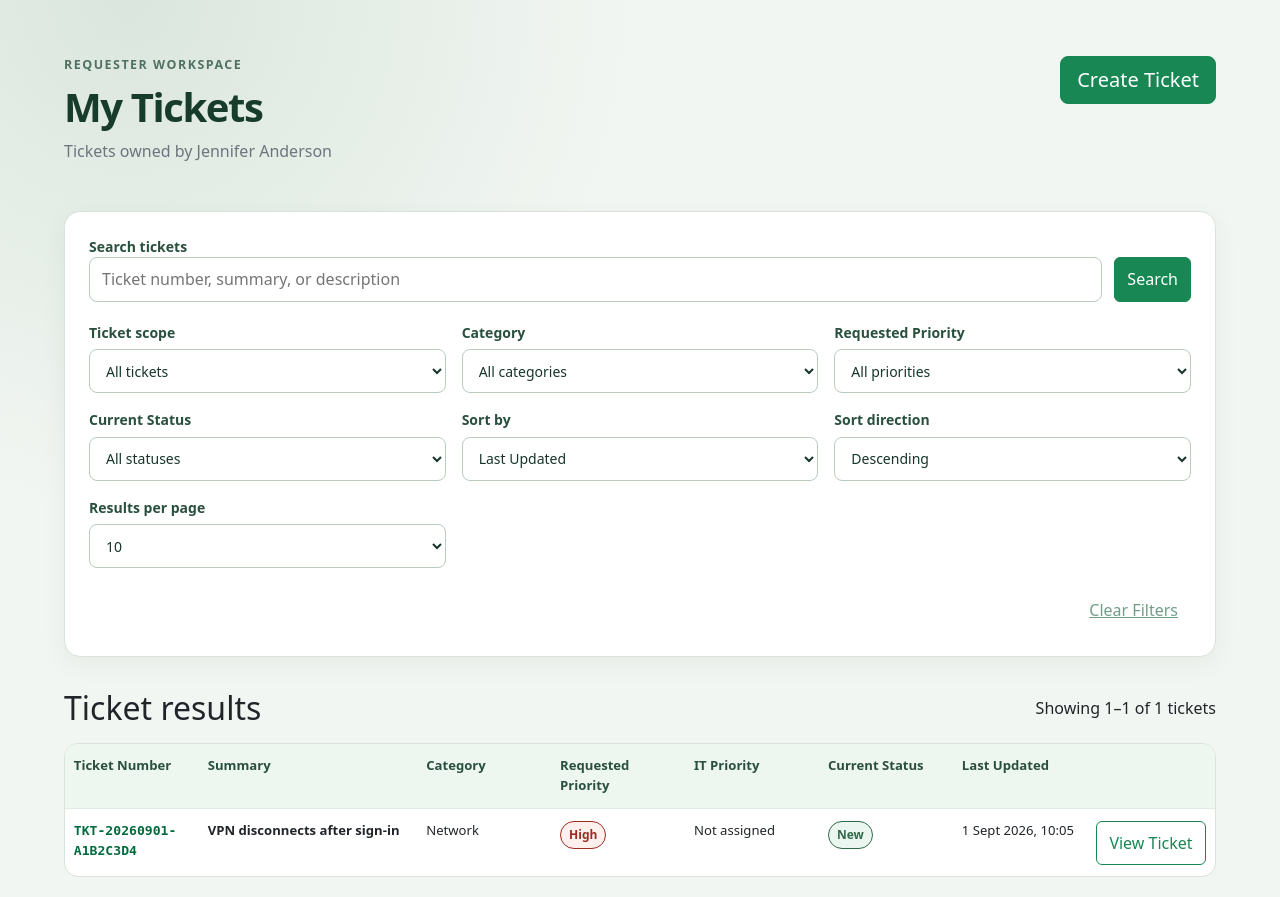
Test: My Tickets › shows a safe failure and Retry keeps the current query controls
expect the text "Showing 1–1 of 1 tickets" is shown: met, box [1036,696,1216,720]
Type "vpn" into the search field labelled "Search tickets". click: coordinates (596, 279)
box: [89,257,1102,302]
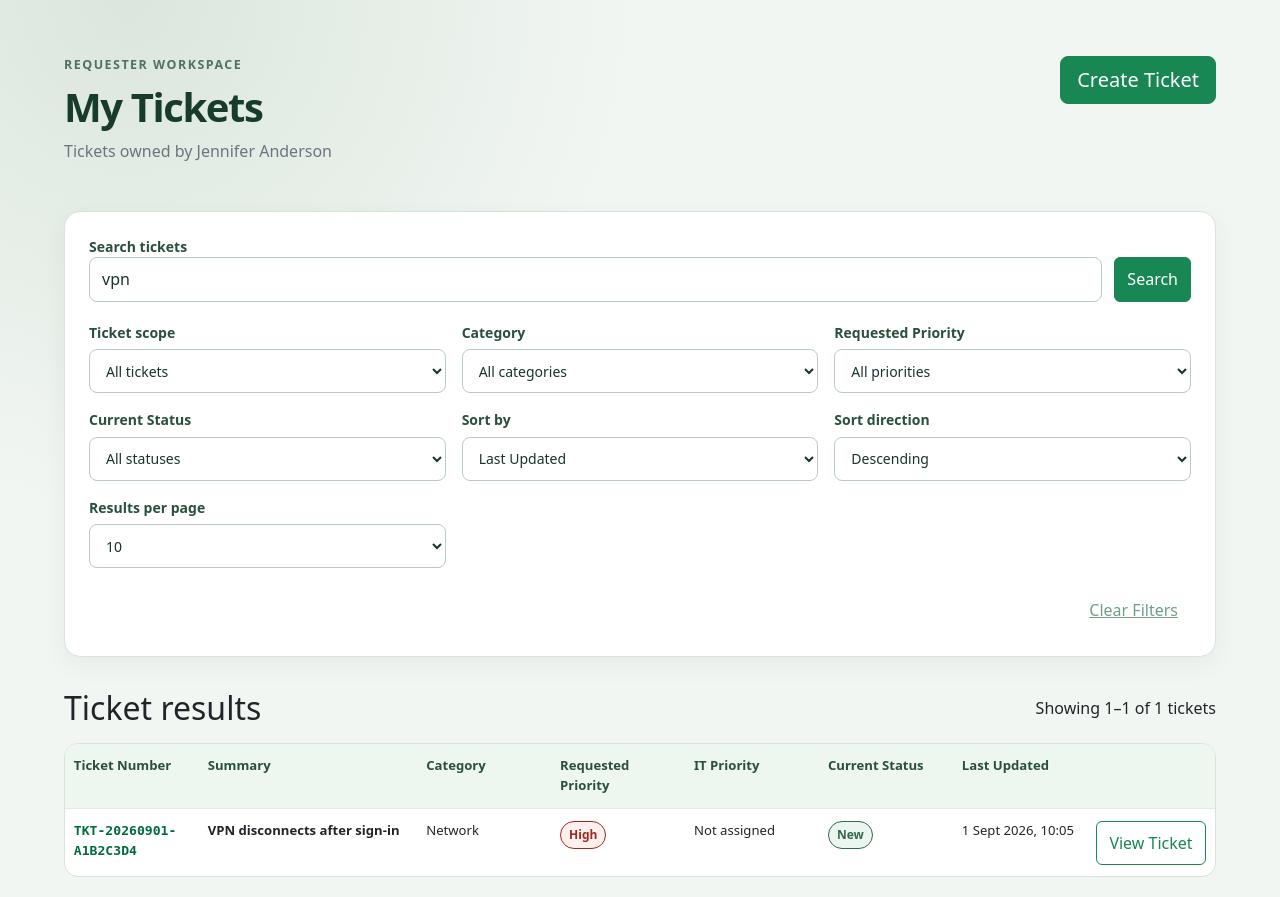
Select "High" in the dropdown labelled "Requested Priority". click: coordinates (1013, 371)
box: [834,349,1191,393]
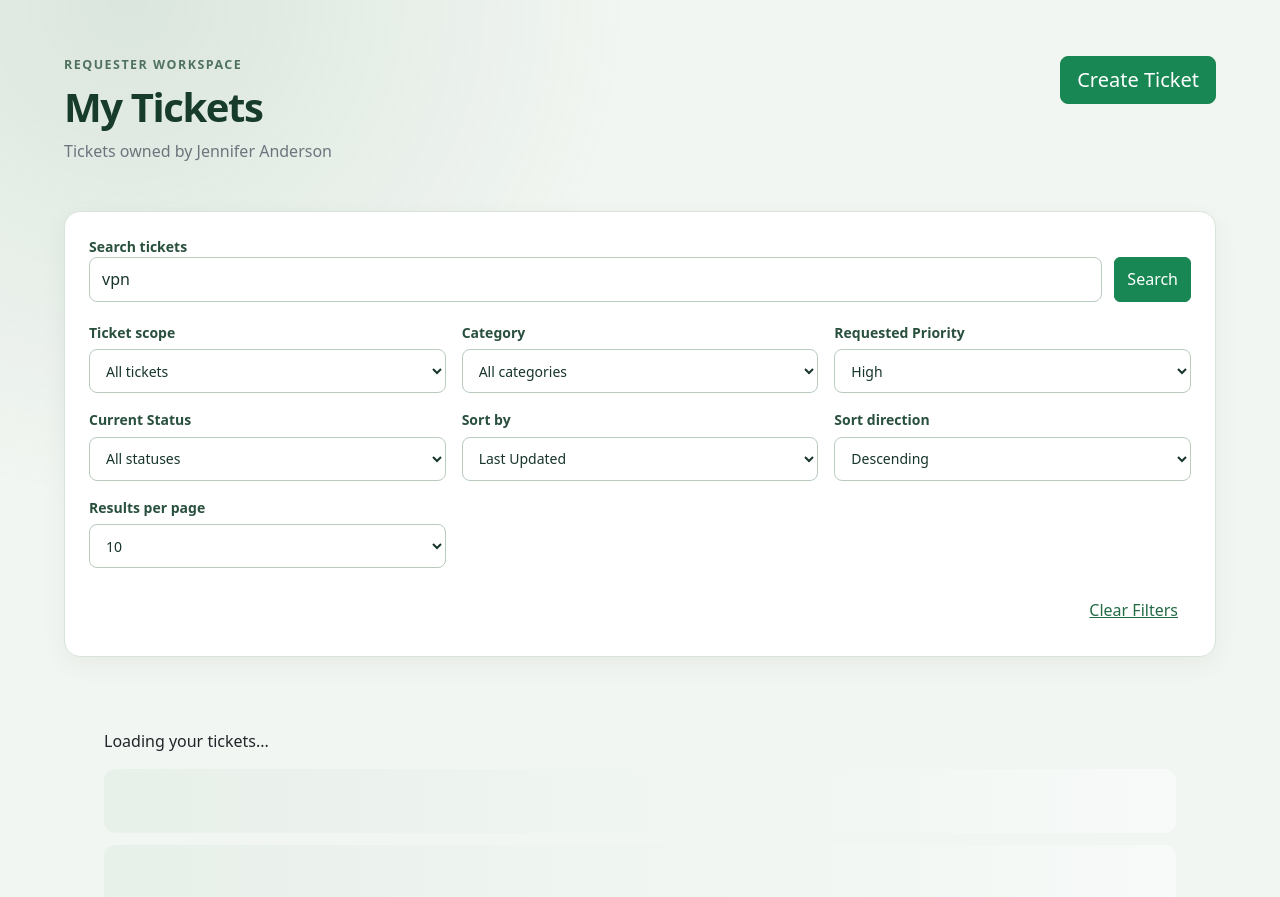
Click the button "Search". click: coordinates (1153, 279)
box: [1114,257,1191,302]
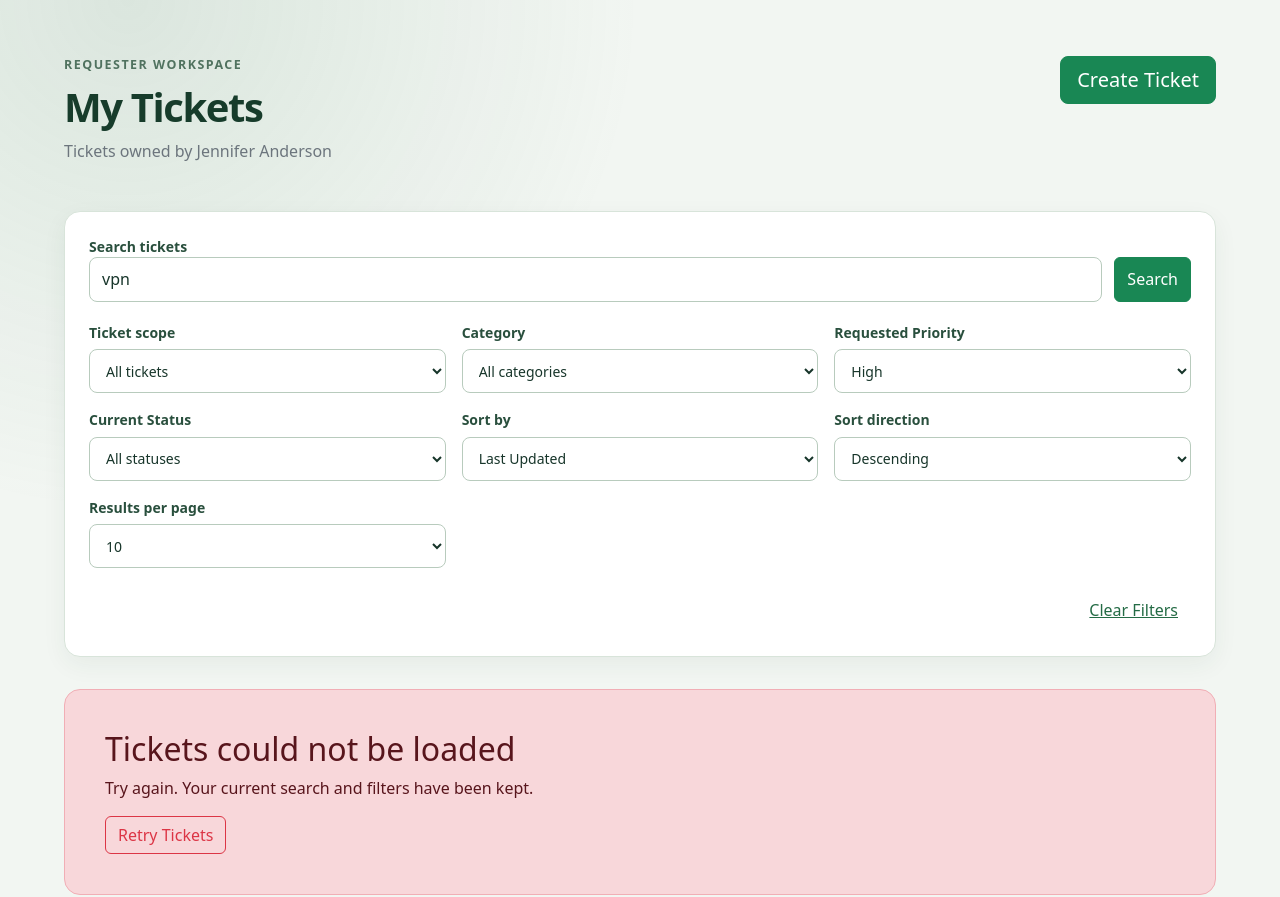
expect the message shows "Tickets could not be loaded": met, box [105,727,516,770]
Click the button "Retry Tickets". click: coordinates (166, 836)
box: [105,816,226,854]
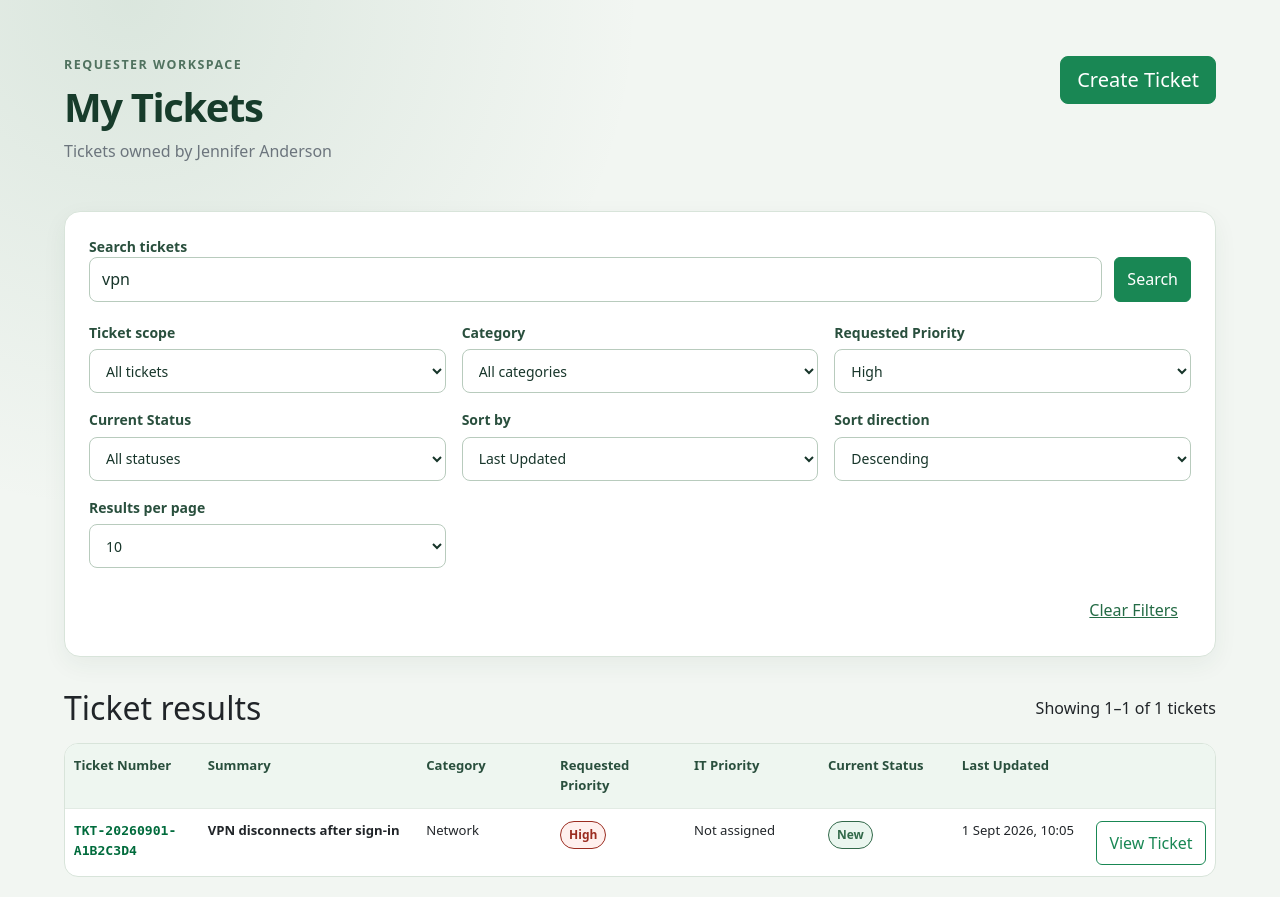
expect the text "Showing 1–1 of 1 tickets" is shown: met, box [1036,696,1216,720]
